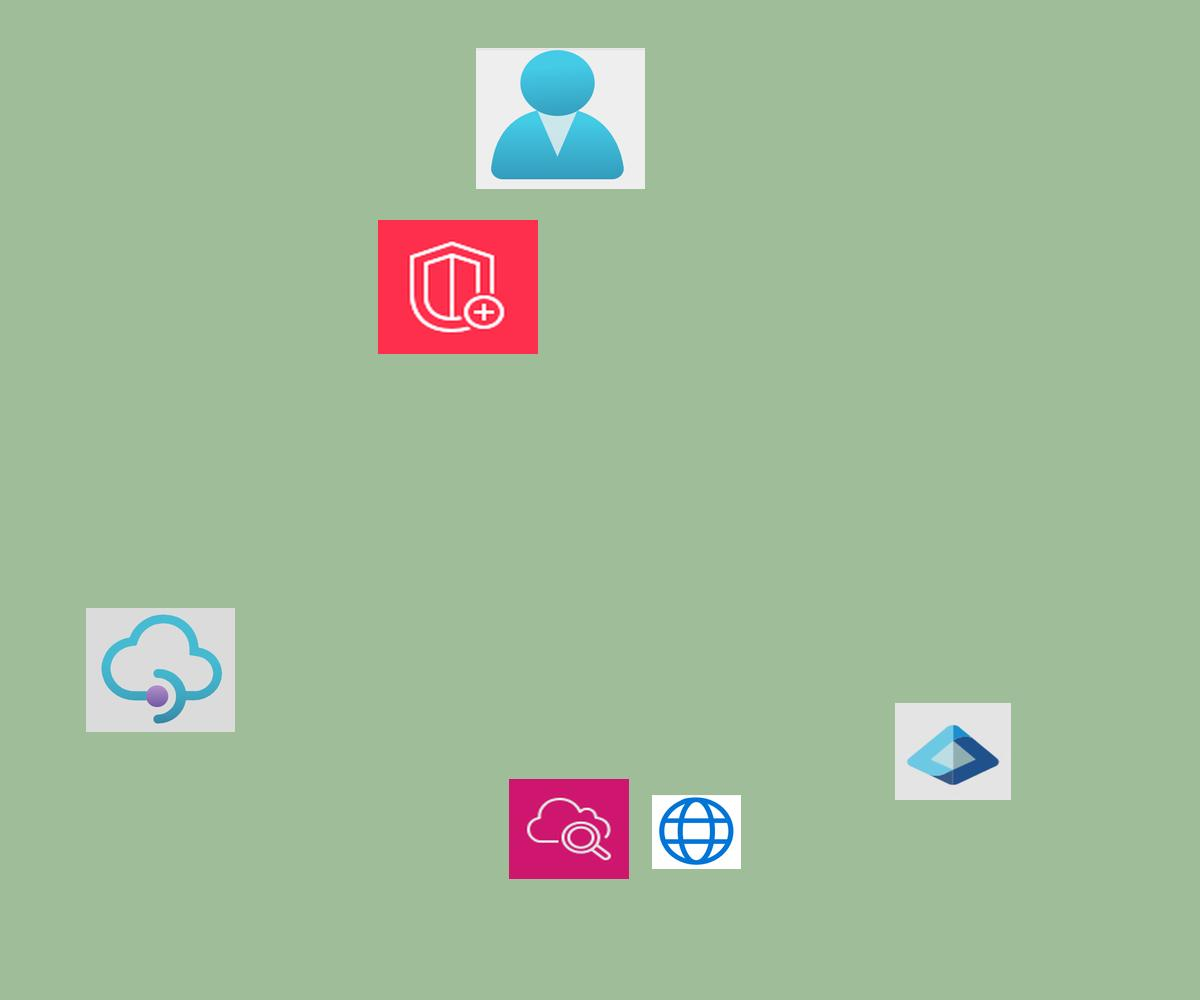AWS-CloudWatch: (509, 779, 629, 879)
AWS-Shield: (378, 220, 538, 354)
Azure_api_gateway: (86, 608, 235, 732)
Azure_http: (652, 795, 741, 869)
Azure_microsoft_entra: (895, 703, 1011, 800)
Azure_users: (476, 48, 645, 189)
